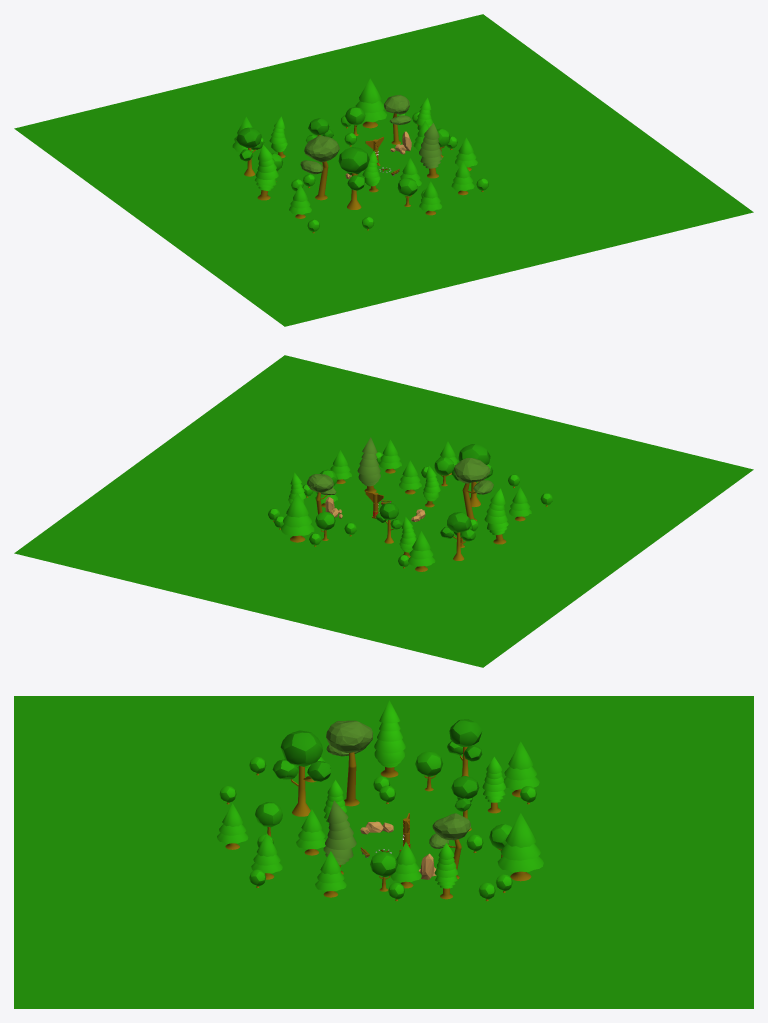
File: Naming_Ceremony.glb
The picture shows the model from 3 angles, top to bottom: view 1: azimuth 30°, elevation 25°; view 2: azimuth 150°, elevation 25°; view 3: azimuth 270°, elevation 25°; orthographic projection. The views are drawn at different scales.
Visible parts, largest first — view 1: Tree1_WIP:pCylinder4; view 2: Tree1_WIP:pCylinder4; view 3: Tree1_WIP:pCylinder4.
Boxes of the visible parts, x1,y1,x2,y2 form: Tree1_WIP:pCylinder4: [14, 14, 753, 326]; Tree1_WIP:pCylinder4: [14, 355, 753, 667]; Tree1_WIP:pCylinder4: [14, 696, 753, 1008].
Bounding box in the file's own units: 20.5 × 2.64 × 20.5.
